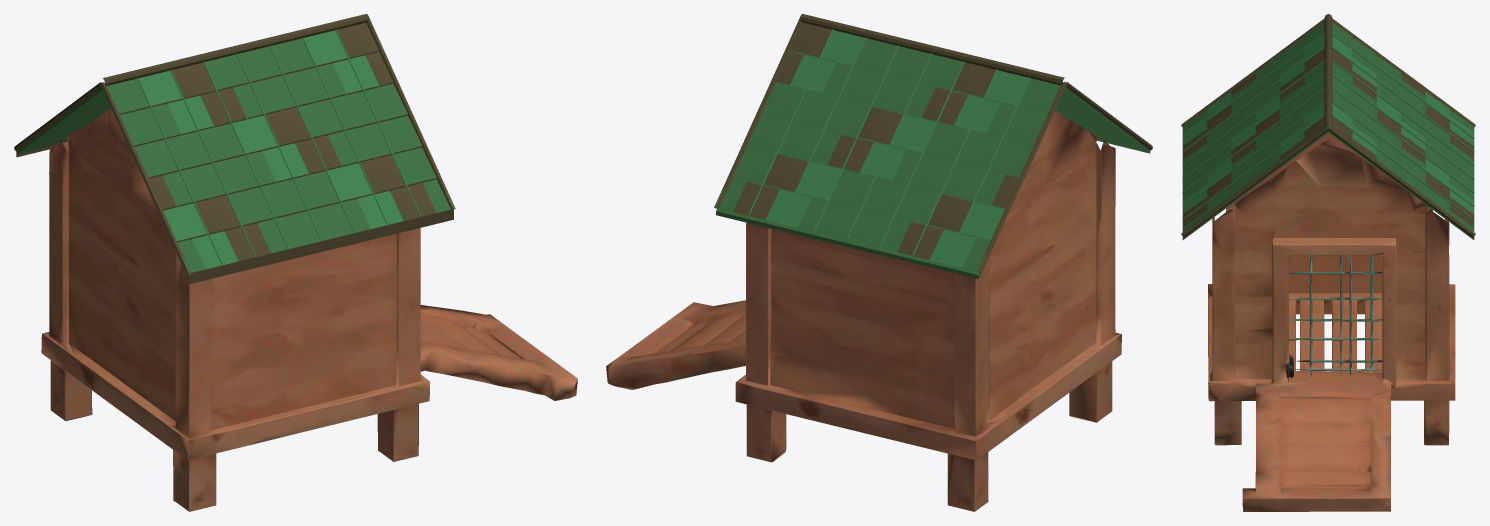
File: coop-pre-precision.glb
3 renders of one model, left to right at view 1: azimuth 30°, elevation 25°; view 2: azimuth 150°, elevation 25°; view 3: azimuth 270°, elevation 25°, orthographic. The views are drawn at different scales.
Visible parts, largest first — view 1: CoopBody; view 2: CoopBody; view 3: CoopBody.
Boxes of the visible parts, x1,y1,x2,y2 form: CoopBody: (14, 14, 577, 511); CoopBody: (606, 14, 1152, 511); CoopBody: (1181, 14, 1475, 511).
Bounding box in the file's own units: 3 × 2.61 × 2.12.
1 material, 1 textured.
